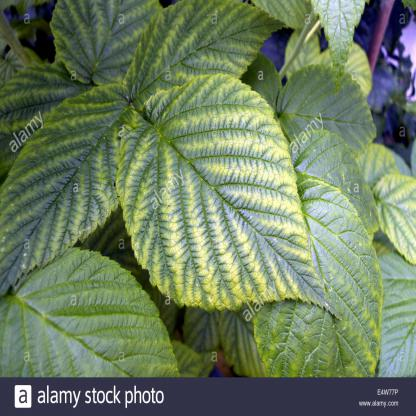raspberry leaf: (118, 80, 330, 307)
